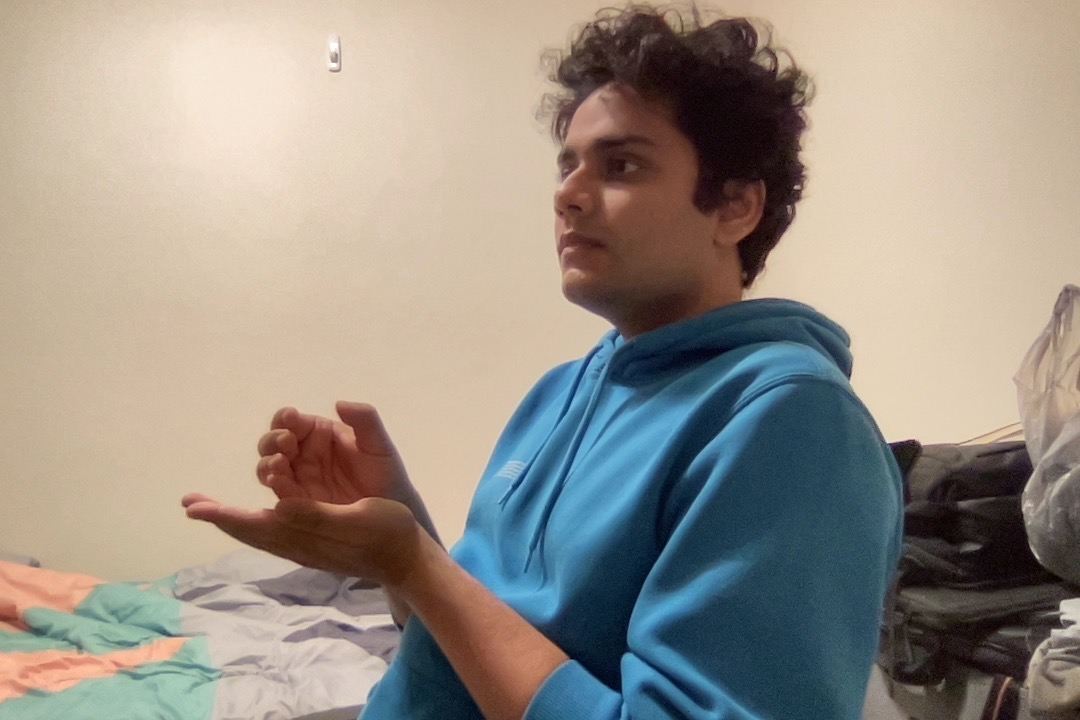Cup: (144, 390, 514, 597)
